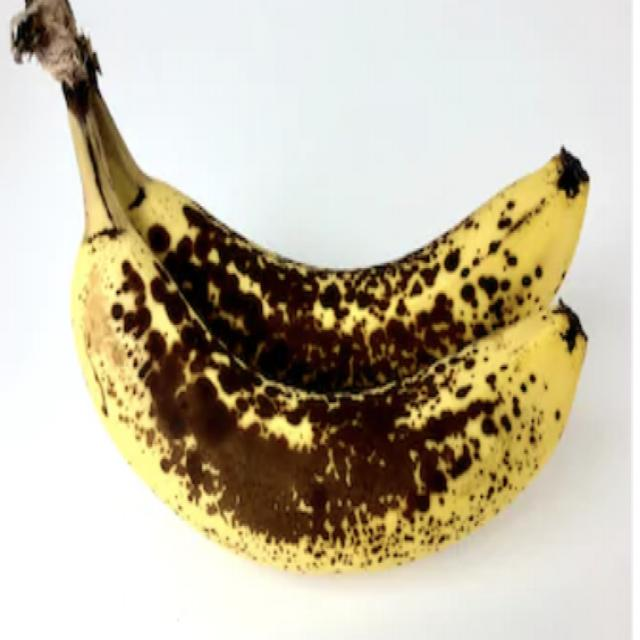rotten-banana: (79, 193, 619, 577), (96, 133, 591, 391)
